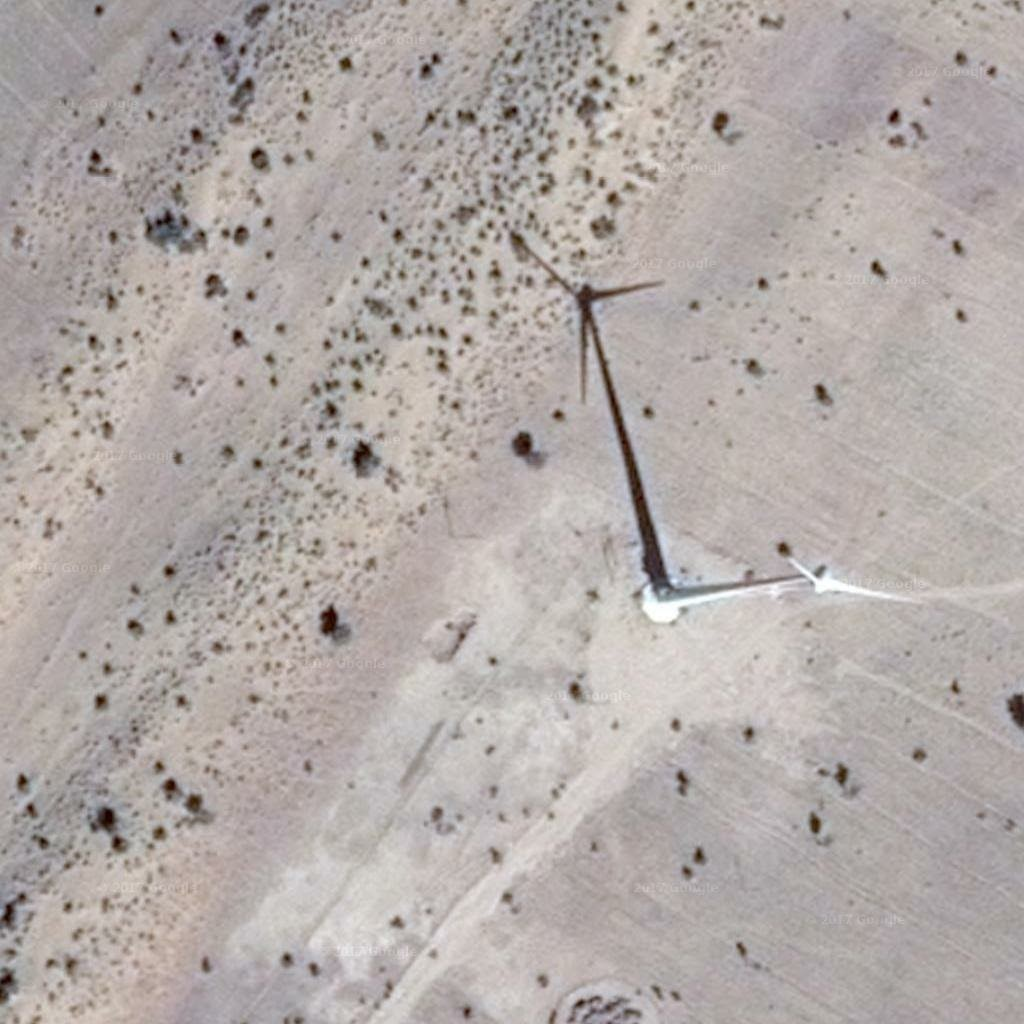Windmill: (516, 235, 681, 590)
